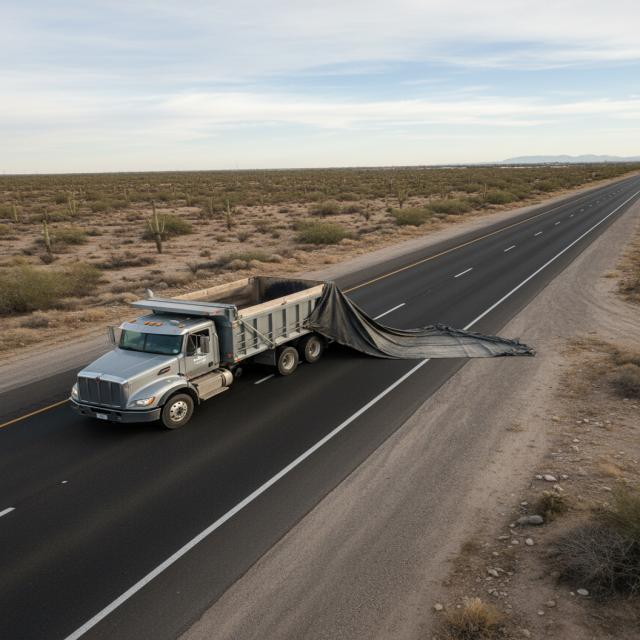Box: (130, 279, 340, 323)
Truck: (63, 265, 431, 427)
